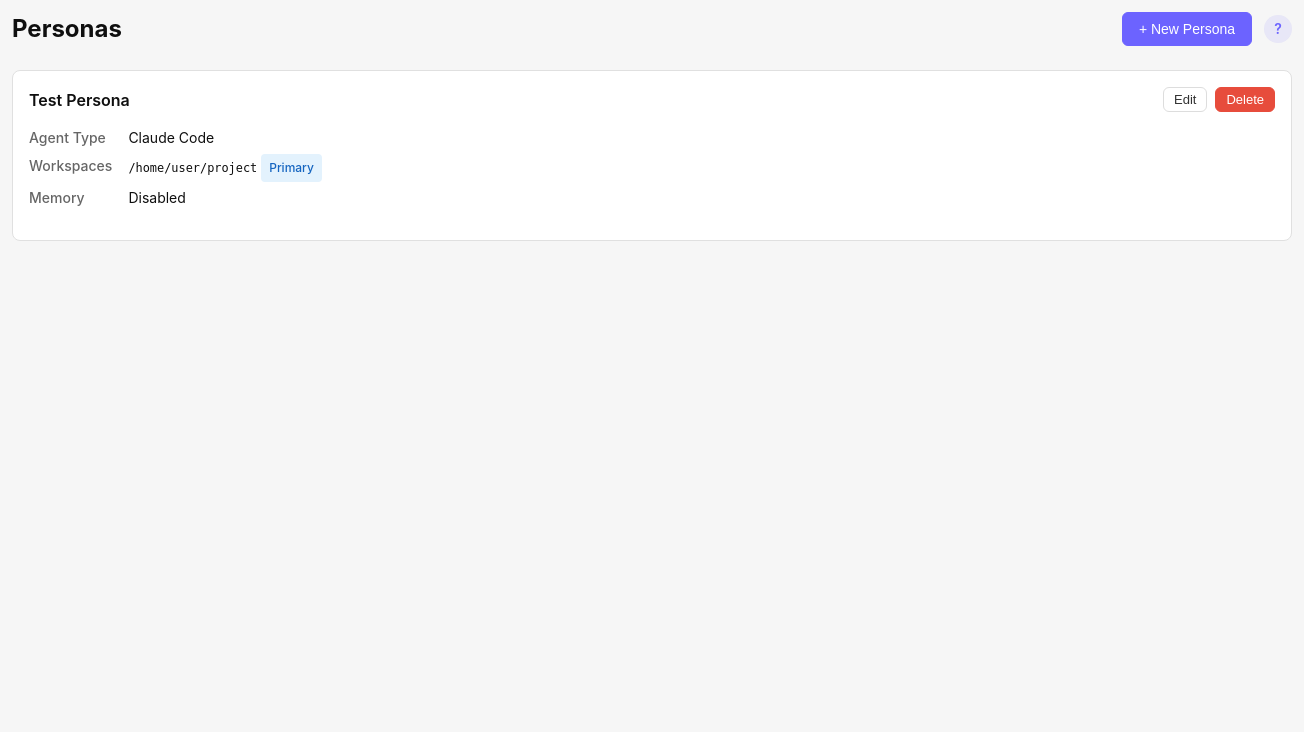
Test: PersonasPage - Additional Workspaces › empty additional workspaces shows only 'Add Workspace' button
The width and height of the screenshot is (1304, 732).
Open create form (which starts with empty additional workspaces)
Click the button "+ New Persona". click: click(1187, 29)
box: [1122, 12, 1252, 46]
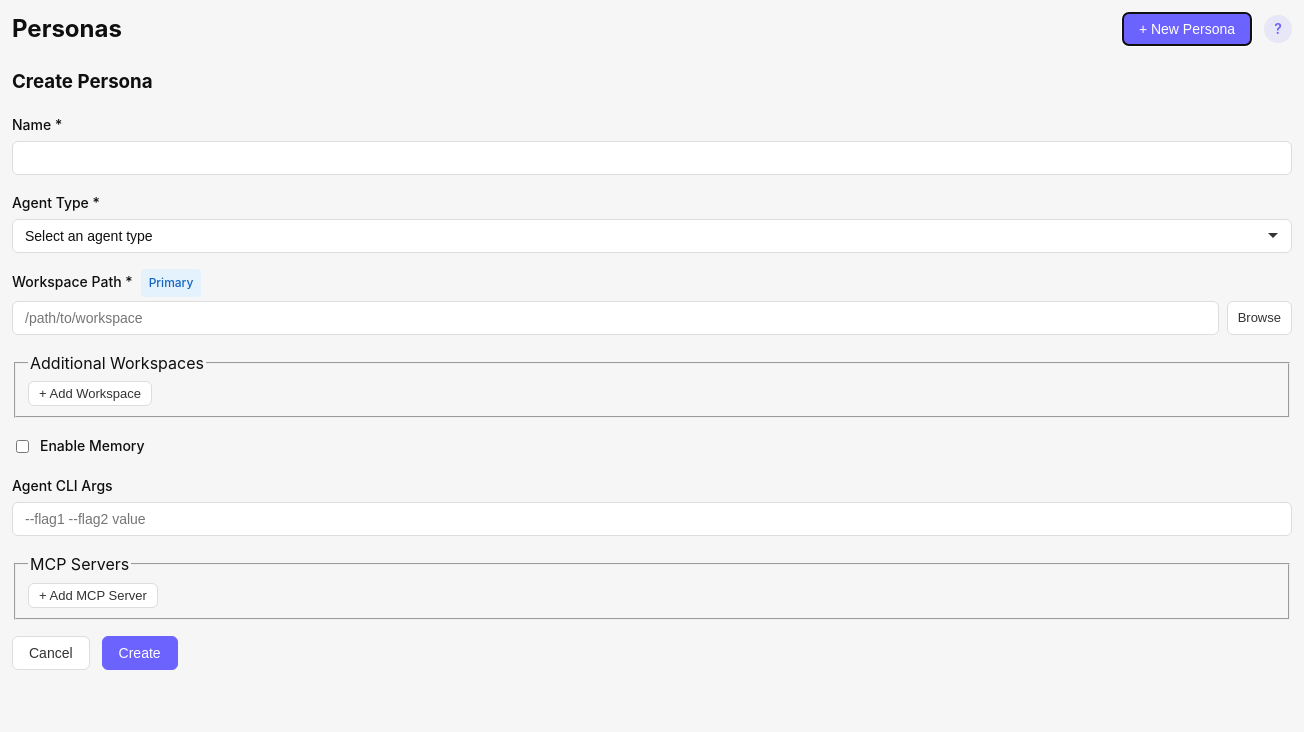
Check: the button "+ Add Workspace" is shown, box [28, 381, 152, 406]
